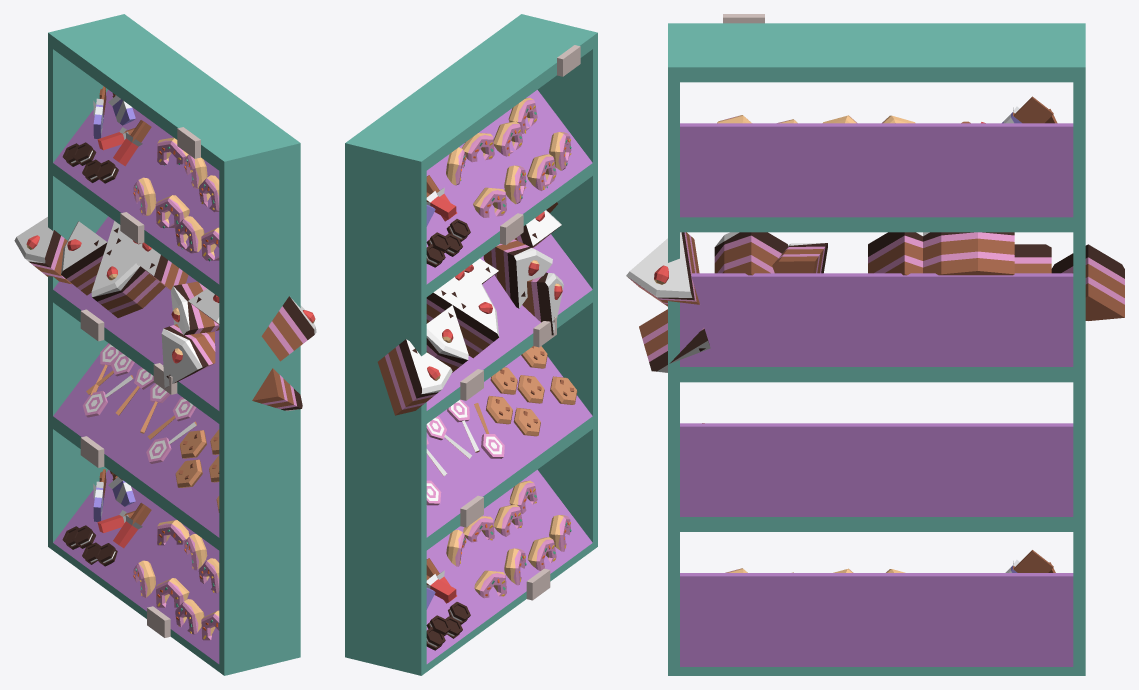
File: süßigkeitenregal_overall.fbx
3 views of the same model, side by side, from view 1: azimuth 30°, elevation 25°; view 2: azimuth 150°, elevation 25°; view 3: azimuth 270°, elevation 25° (orthographic). The views are drawn at different scales.
Visible parts, largest first — view 1: Box002, Box021, slice (×5), Box020, Box029, Box026, Box009, slice002, slice006, slice004, slice005, donutSprinkles013 (+25 smaller); view 2: Box002, Box021, slice (×6), Box020, Box029, Box026, Box009, slice004, slice002, slice003, donutSprinkles014, donutSprinkles012 (+25 smaller); view 3: Box002, Box029, Box021, Box020, Box026, slice (×5), slice006, slice003, slice005, slice004, chocolateWrapper002.
Part boxes in pixels (<box>): Box002: <box>48,14,300,675</box>; Box021: <box>53,343,219,537</box>; slice (×5): <box>14,217,188,317</box>; Box020: <box>53,470,219,663</box>; Box029: <box>53,90,219,284</box>; Box026: <box>53,216,219,410</box>; Box009: <box>80,127,200,637</box>; slice002: <box>161,324,215,387</box>; slice006: <box>261,296,316,361</box>; slice004: <box>171,281,219,335</box>; slice005: <box>252,368,302,411</box>; donutSprinkles013: <box>155,195,189,228</box>; Box002: <box>345,14,597,675</box>; Box021: <box>426,355,592,537</box>; slice (×6): <box>377,258,499,415</box>; Box020: <box>426,469,592,663</box>; Box029: <box>426,90,592,284</box>; Box026: <box>426,234,592,410</box>; Box009: <box>460,45,580,600</box>; slice004: <box>483,239,552,308</box>; slice002: <box>522,272,563,335</box>; slice003: <box>514,210,561,247</box>; donutSprinkles014: <box>527,154,556,190</box>; donutSprinkles012: <box>473,187,506,217</box>; Box002: <box>668,23,1085,675</box>; Box029: <box>680,123,1073,217</box>; Box021: <box>680,423,1073,516</box>; Box020: <box>680,573,1073,666</box>; Box026: <box>680,273,1073,366</box>; slice (×5): <box>868,232,1124,320</box>; slice006: <box>626,232,699,306</box>; slice003: <box>714,232,787,275</box>; slice005: <box>639,309,710,372</box>; slice004: <box>772,243,827,273</box>; chocolateWrapper002: <box>1002,96,1053,123</box>.
Bounding box in the file's own units: 38.06 × 163 × 119.
